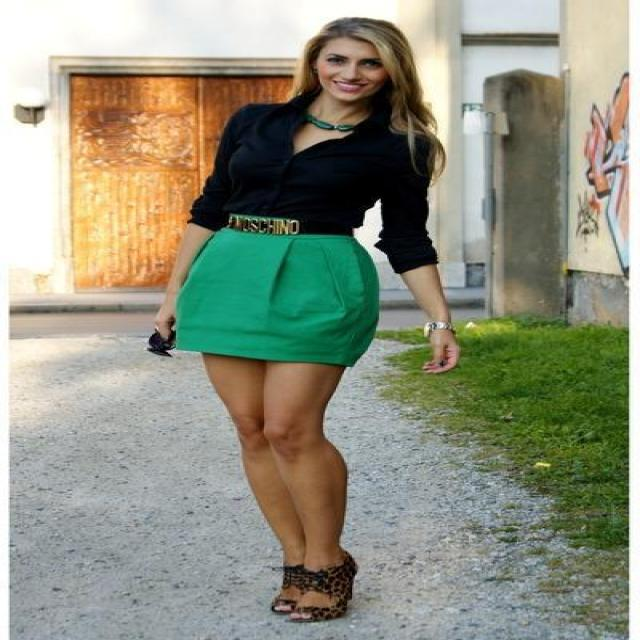shirt: (187, 98, 437, 273)
shoe: (278, 556, 357, 622)
skirt: (175, 226, 382, 368)
